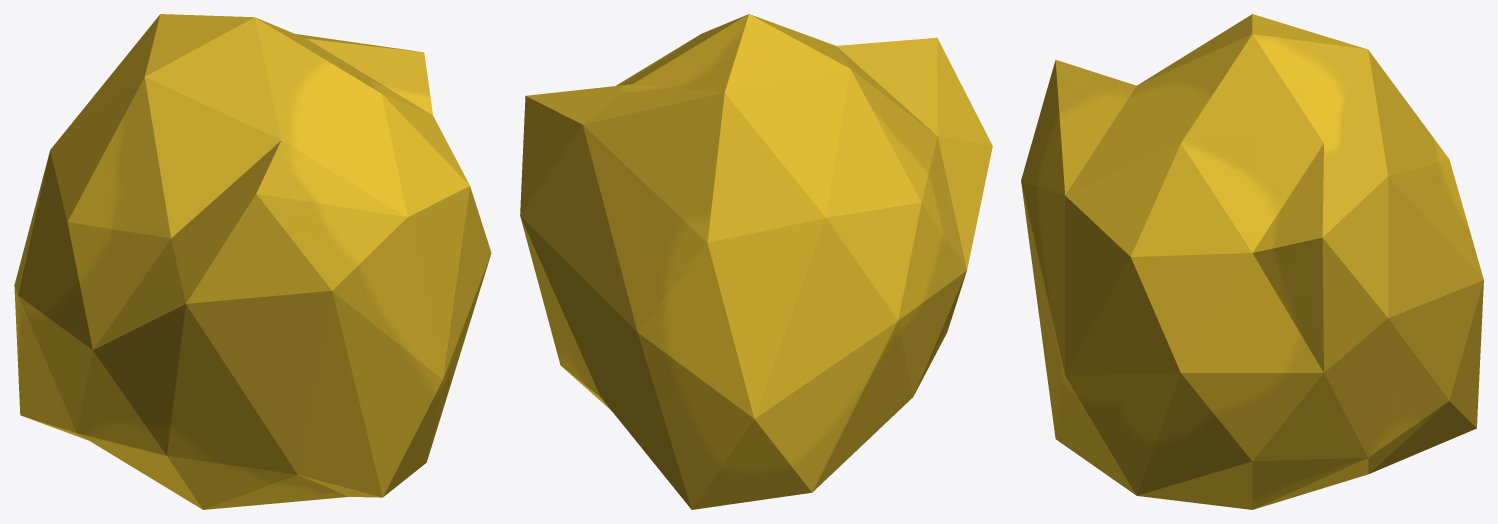
The model's file is item-goldnugget.glb.
3 views of the same model, side by side, from view 1: azimuth 30°, elevation 25°; view 2: azimuth 150°, elevation 25°; view 3: azimuth 270°, elevation 25° (orthographic). The views are drawn at different scales.
Size of the model in its own units: 0.2713 by 0.3047 by 0.2805.
1 material, 1 textured.
